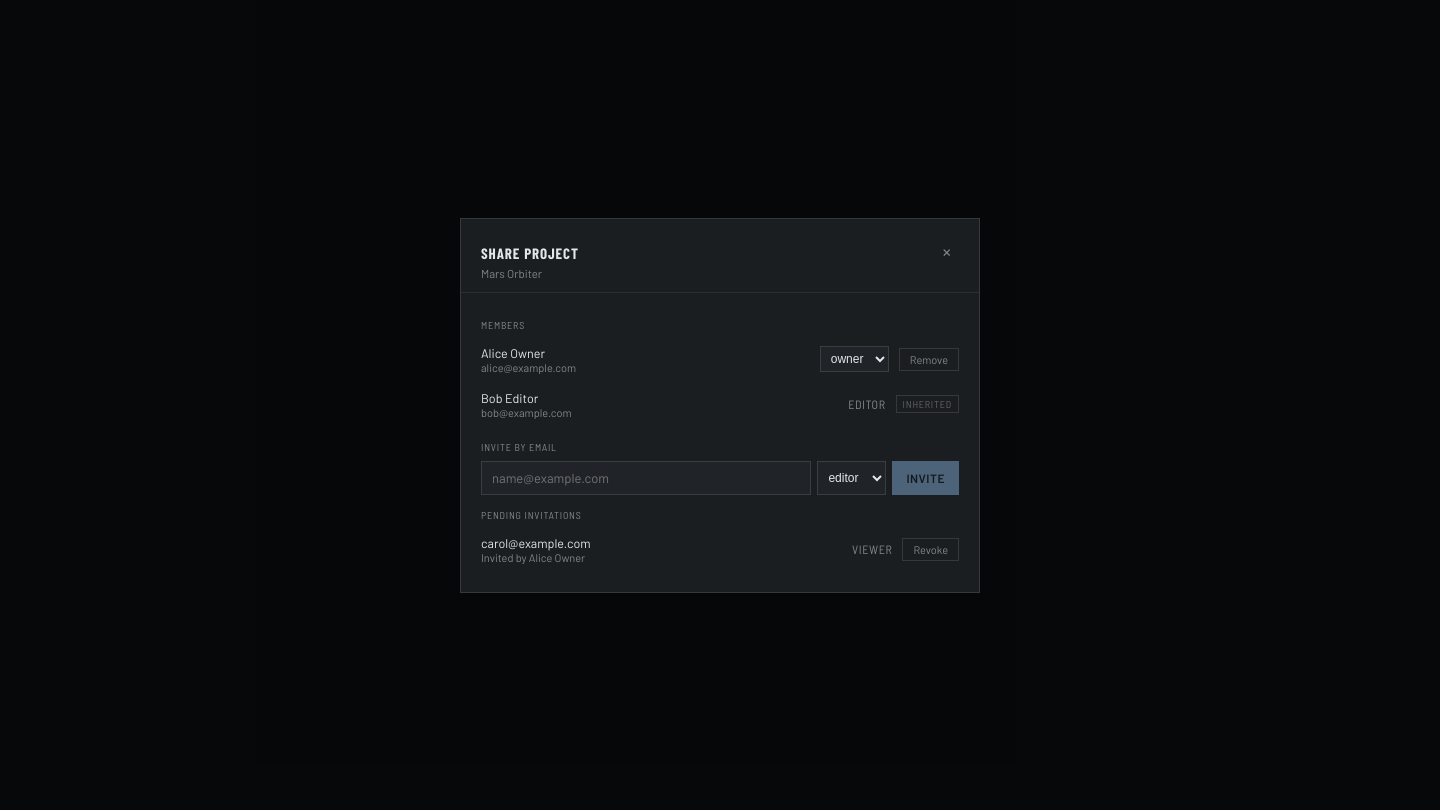
Test: <ShareDialog> › surfaces 409 last_owner inline on the row that tried to change
The image size is (1440, 810).
Check: the text "Alice Owner" is shown, box [481,344,545,360]
Click the button "Remove" at [929, 359], box [899,348,959,370]
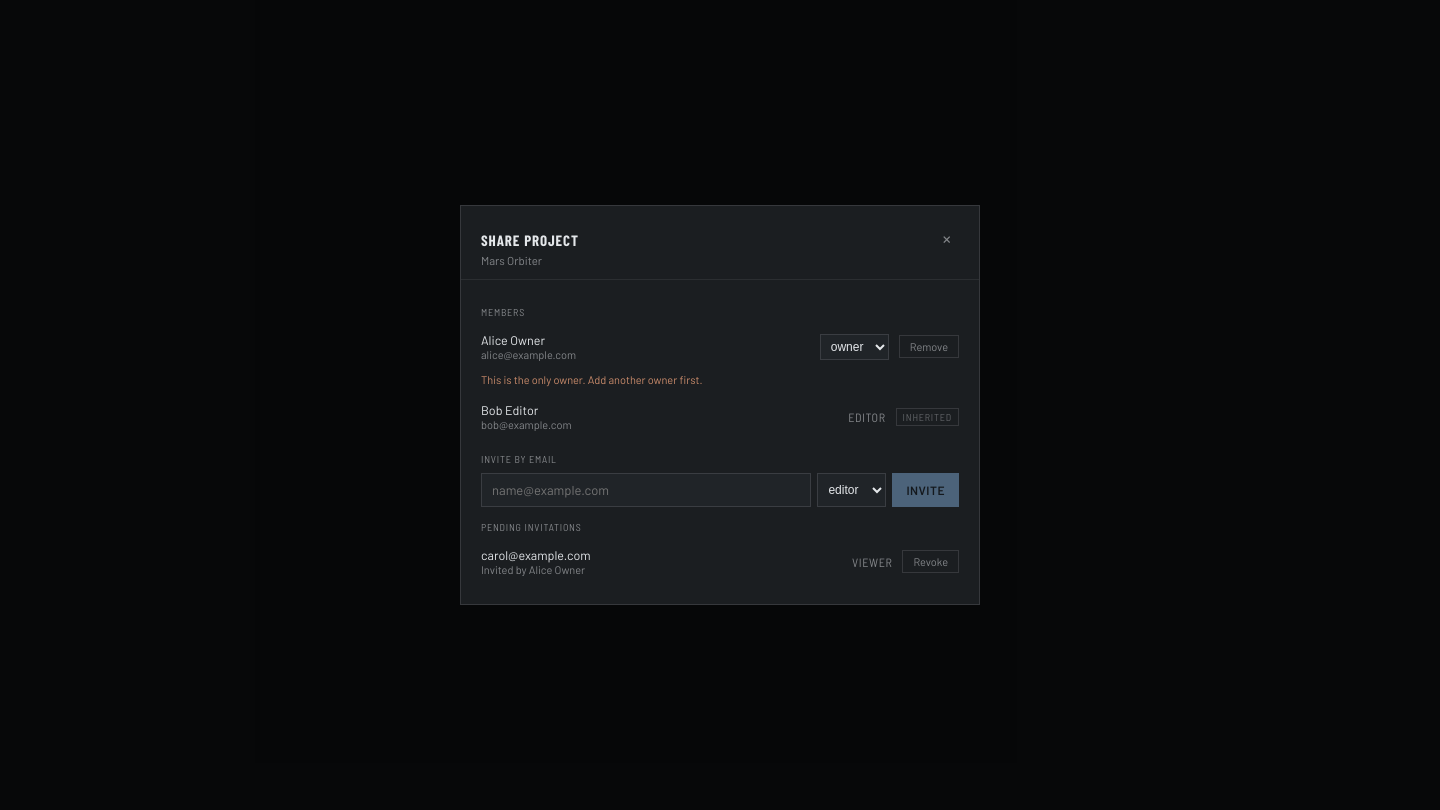
Check: the text "This is the only owner. Add another owner first." is shown, box [481,373,702,386]
